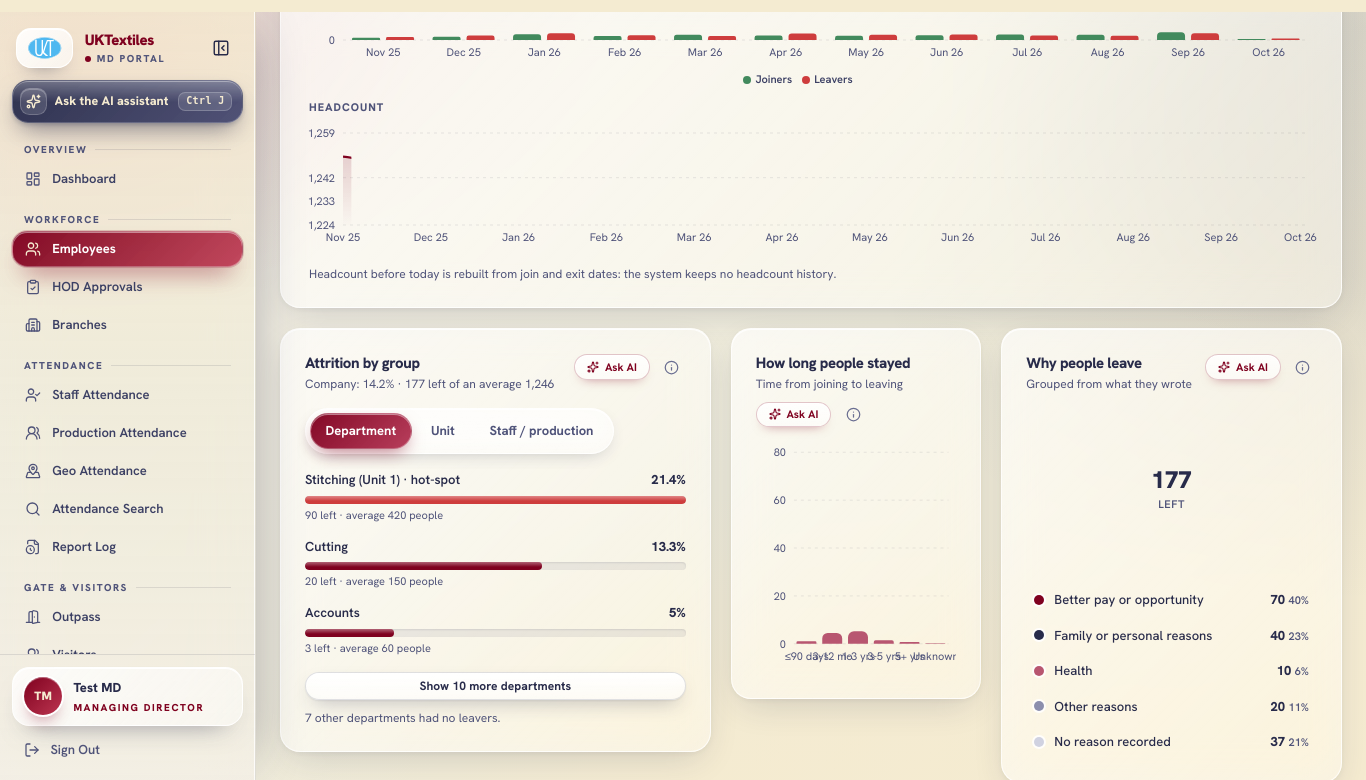
it: MdEmployees › lists more departments only when asked
The image size is (1366, 780).
(page scrolled)
Click the button with test id "md-employees-attrition-more" at [495, 686], box [305, 672, 686, 700]
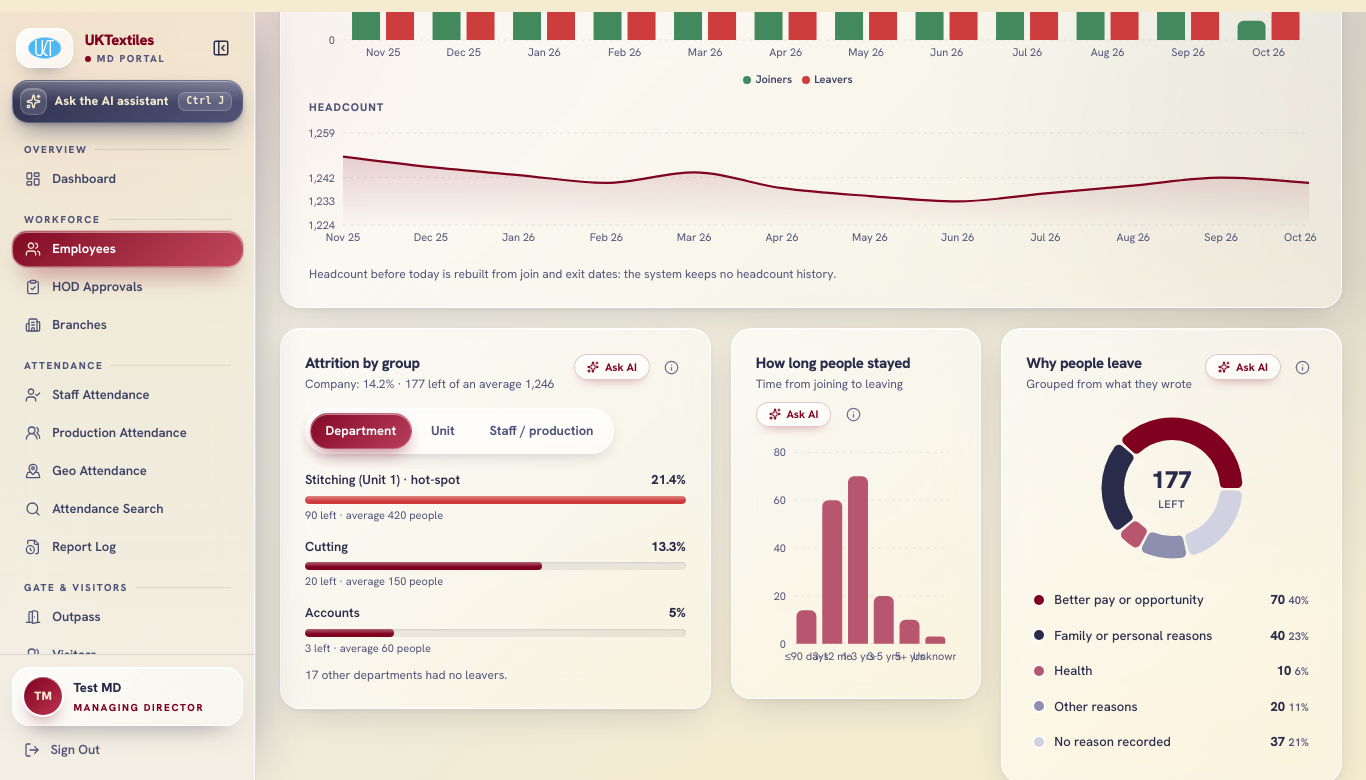
Check: the button with test id "md-employees-attrition-more" is gone
